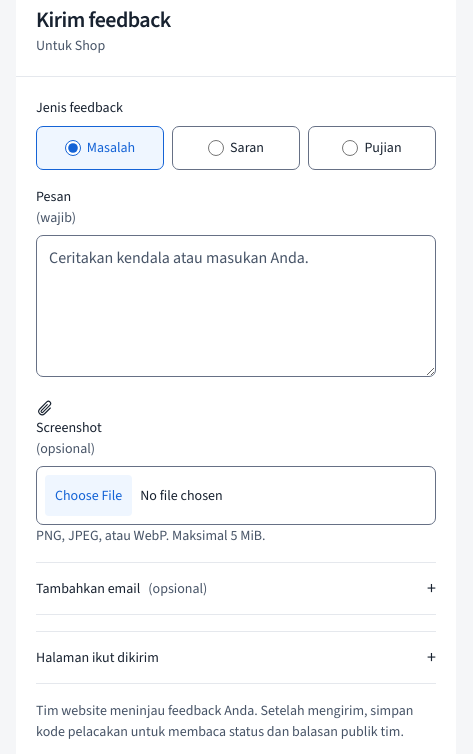
Test: never submits a preview
Type "Checkout broken" into the text box labelled "Pesan (wajib)" at [236, 306], box [36,235,436,377]
(page scrolled)
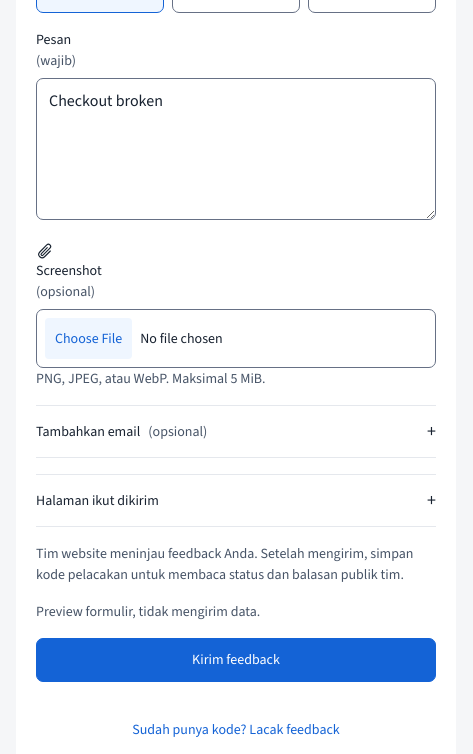
Click the button "Kirim feedback" at [236, 660], box [36,638,436,682]
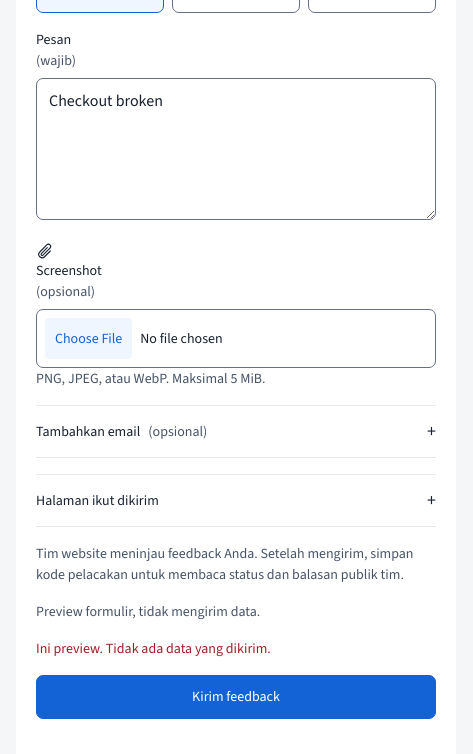
Check: the message shows "Ini preview", box [36,639,271,658]
